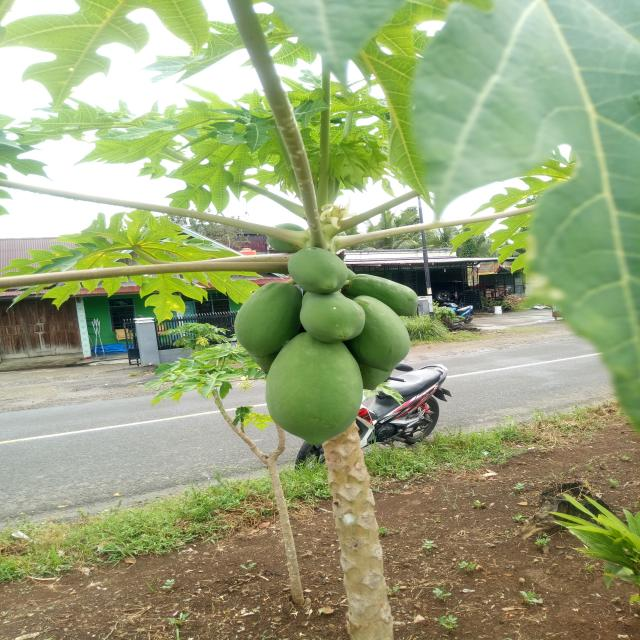Pepaya unrippen: (264, 338, 354, 442), (288, 247, 352, 295), (237, 286, 285, 350), (360, 312, 409, 371), (355, 277, 422, 320), (300, 297, 361, 342)
